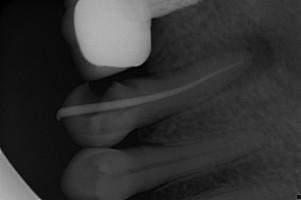Furcation Involvement: (223, 27, 276, 91)
